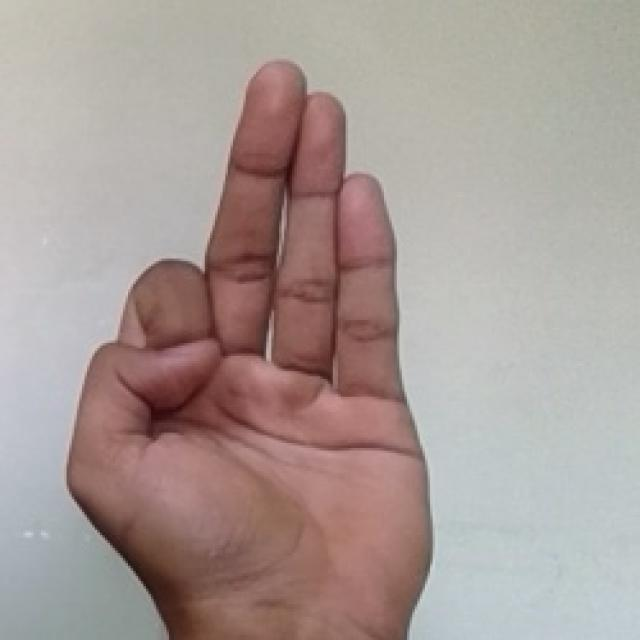Numeric-9: (64, 55, 438, 615)
